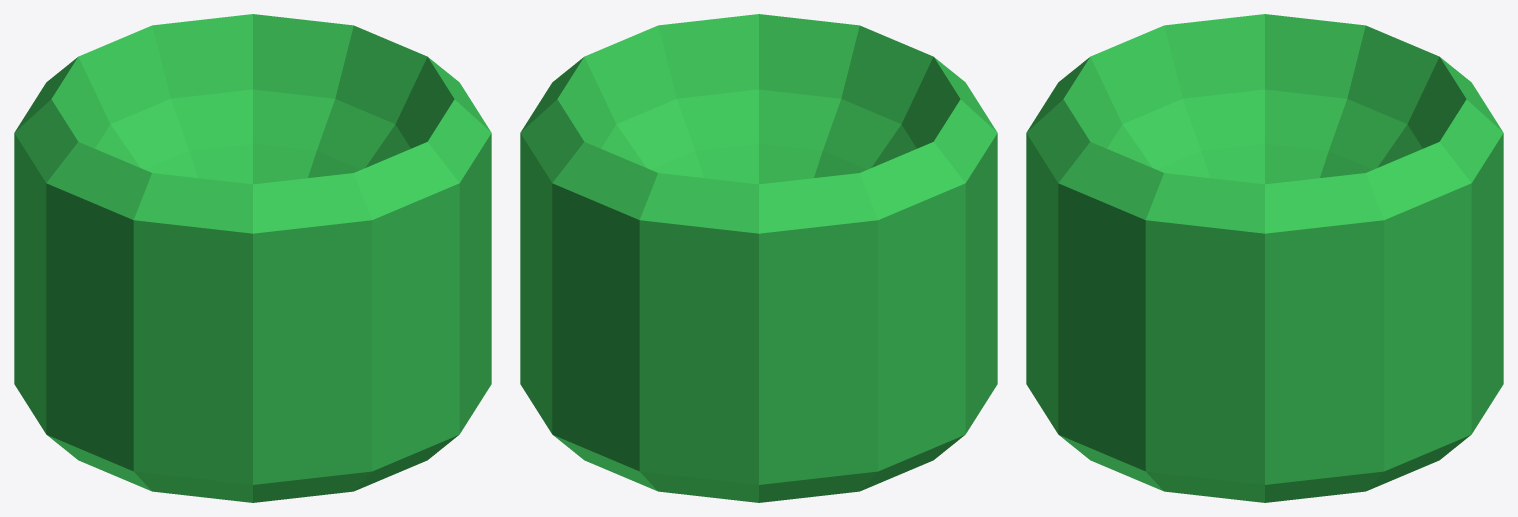
Rendered from Wheel4.OBJ.
3 views of the same model, side by side, from view 1: azimuth 30°, elevation 25°; view 2: azimuth 150°, elevation 25°; view 3: azimuth 270°, elevation 25° (orthographic).
Visible parts, largest first — view 1: Wheel4_Wheel2.001; view 2: Wheel4_Wheel2.001; view 3: Wheel4_Wheel2.001.
Part boxes in pixels (x1,y1,x2,y2): Wheel4_Wheel2.001: (14,14,491,502); Wheel4_Wheel2.001: (520,14,997,502); Wheel4_Wheel2.001: (1026,14,1503,502).
Bounding box in the file's own units: 0.5092 × 0.375 × 0.5092.
